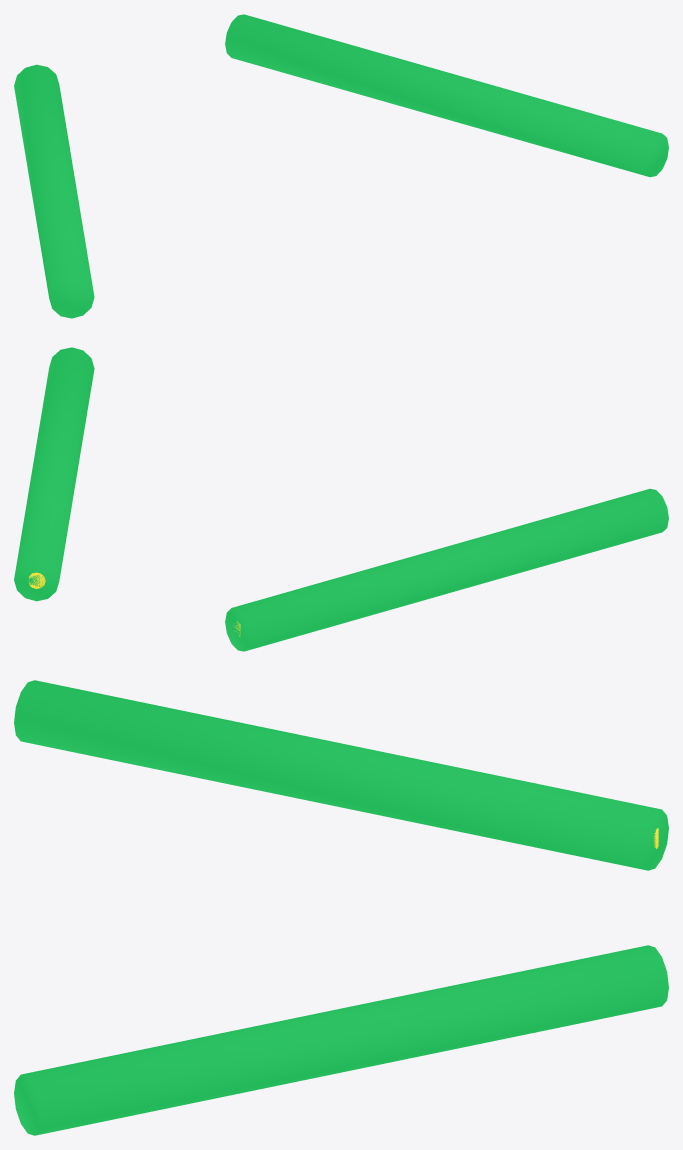
File: trait-eyes-green-laser-skull.glb
3 views of the same model, one above another, from view 1: azimuth 30°, elevation 25°; view 2: azimuth 150°, elevation 25°; view 3: azimuth 270°, elevation 25° (orthographic). The views are drawn at different scales.
Parts seen in each view (by area): view 1: trait_eye_beam_R, trait_eye_beam_L; view 2: trait_eye_beam_L, trait_eye_beam_R; view 3: trait_eye_beam_R, trait_eye_beam_L.
Boxes of the visible parts, x1,y1,x2,y2 form: trait_eye_beam_R: (225,14,668,177); trait_eye_beam_L: (14,64,94,318); trait_eye_beam_L: (225,488,668,651); trait_eye_beam_R: (14,347,94,601); trait_eye_beam_R: (14,945,668,1135); trait_eye_beam_L: (14,680,668,870).
Bounding box in the file's own units: 1.42 × 0.09 × 0.9382.
